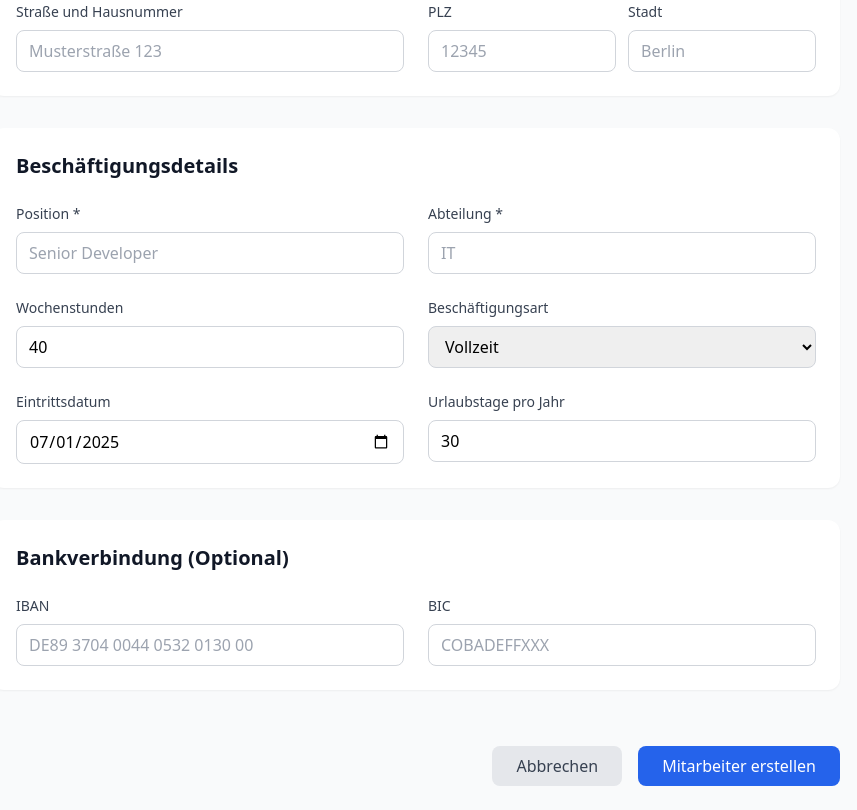
Test: AddEmployeeScreen › should show validation errors for empty required fields
(page scrolled)
Click the button "Mitarbeiter erstellen" at (739, 766), box 638,746 -> 840,786
(page scrolled)
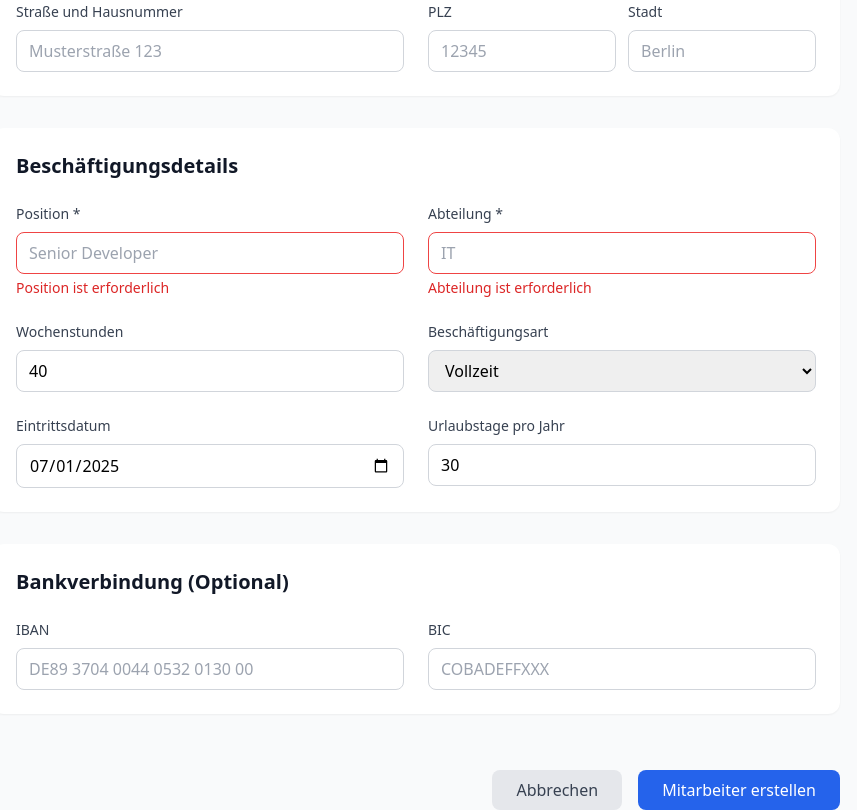
Result: the text "Position ist erforderlich" is shown at 16,278 -> 169,297
Result: the text "Abteilung ist erforderlich" is shown at 428,278 -> 592,297
